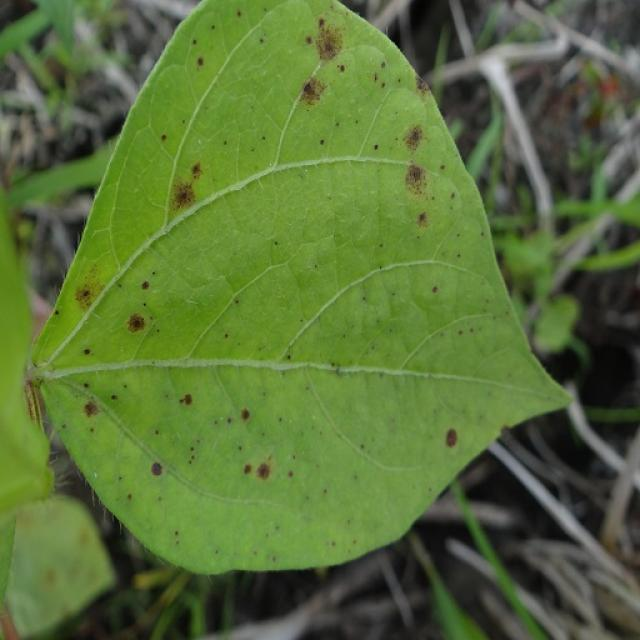Anthracnose: (295, 13, 348, 107), (207, 403, 259, 443), (74, 263, 105, 308), (314, 17, 344, 60), (166, 177, 196, 212), (23, 377, 44, 427), (404, 163, 428, 196), (300, 77, 327, 105), (403, 124, 424, 152), (126, 313, 146, 333), (76, 286, 94, 306), (416, 74, 430, 95), (83, 401, 99, 418), (445, 428, 458, 448), (44, 567, 58, 585), (256, 463, 270, 479), (191, 162, 203, 180), (416, 212, 429, 228), (179, 393, 192, 406), (151, 462, 163, 476), (302, 81, 313, 94), (240, 408, 250, 421), (243, 464, 252, 475), (196, 57, 204, 67), (141, 281, 149, 290), (431, 286, 439, 294), (305, 36, 312, 45), (83, 348, 91, 355), (287, 470, 294, 478), (318, 18, 325, 26), (374, 72, 379, 82), (236, 10, 242, 18), (161, 134, 167, 141), (111, 394, 118, 400), (83, 382, 89, 388), (451, 192, 456, 199), (381, 61, 386, 68), (127, 493, 132, 500), (174, 530, 179, 537), (286, 354, 291, 360), (373, 144, 378, 150), (227, 417, 232, 423), (360, 444, 365, 450), (440, 164, 445, 170), (192, 39, 197, 45), (54, 310, 60, 315), (458, 330, 463, 335), (262, 135, 266, 141), (224, 333, 228, 338)
Blackgram: (29, 0, 568, 572)
